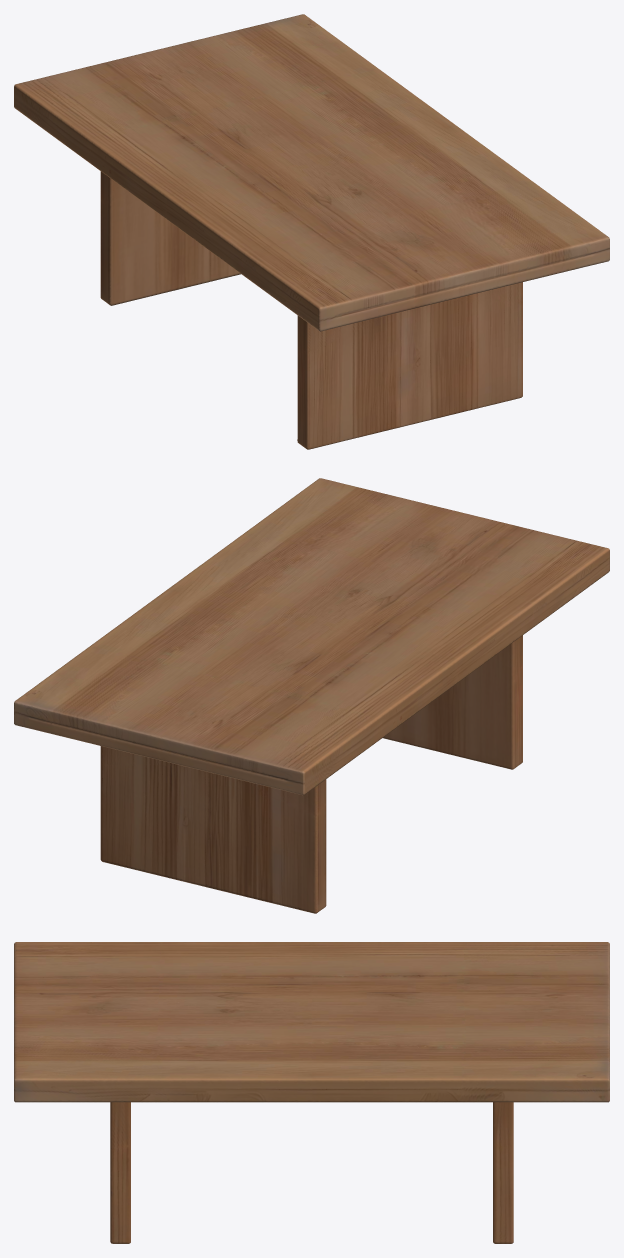
File: detailed_realistic_model_largeoaktable_09.glb
3 views of the same model, one above another, from view 1: azimuth 30°, elevation 25°; view 2: azimuth 150°, elevation 25°; view 3: azimuth 270°, elevation 25° (orthographic). The views are drawn at different scales.
Parts seen in each view (by area): view 1: tripo_node_21cbb546-4b5f-4273-a7d3-d05344166e1d; view 2: tripo_node_21cbb546-4b5f-4273-a7d3-d05344166e1d; view 3: tripo_node_21cbb546-4b5f-4273-a7d3-d05344166e1d.
Boxes of the visible parts, x1=… form: tripo_node_21cbb546-4b5f-4273-a7d3-d05344166e1d: x1=14, y1=14, x2=609, y2=449; tripo_node_21cbb546-4b5f-4273-a7d3-d05344166e1d: x1=14, y1=478, x2=609, y2=913; tripo_node_21cbb546-4b5f-4273-a7d3-d05344166e1d: x1=14, y1=942, x2=609, y2=1243.
Bounding box in the file's own units: 0.5481 × 0.3393 × 1.
Materials: 1 (1 with a texture image).
